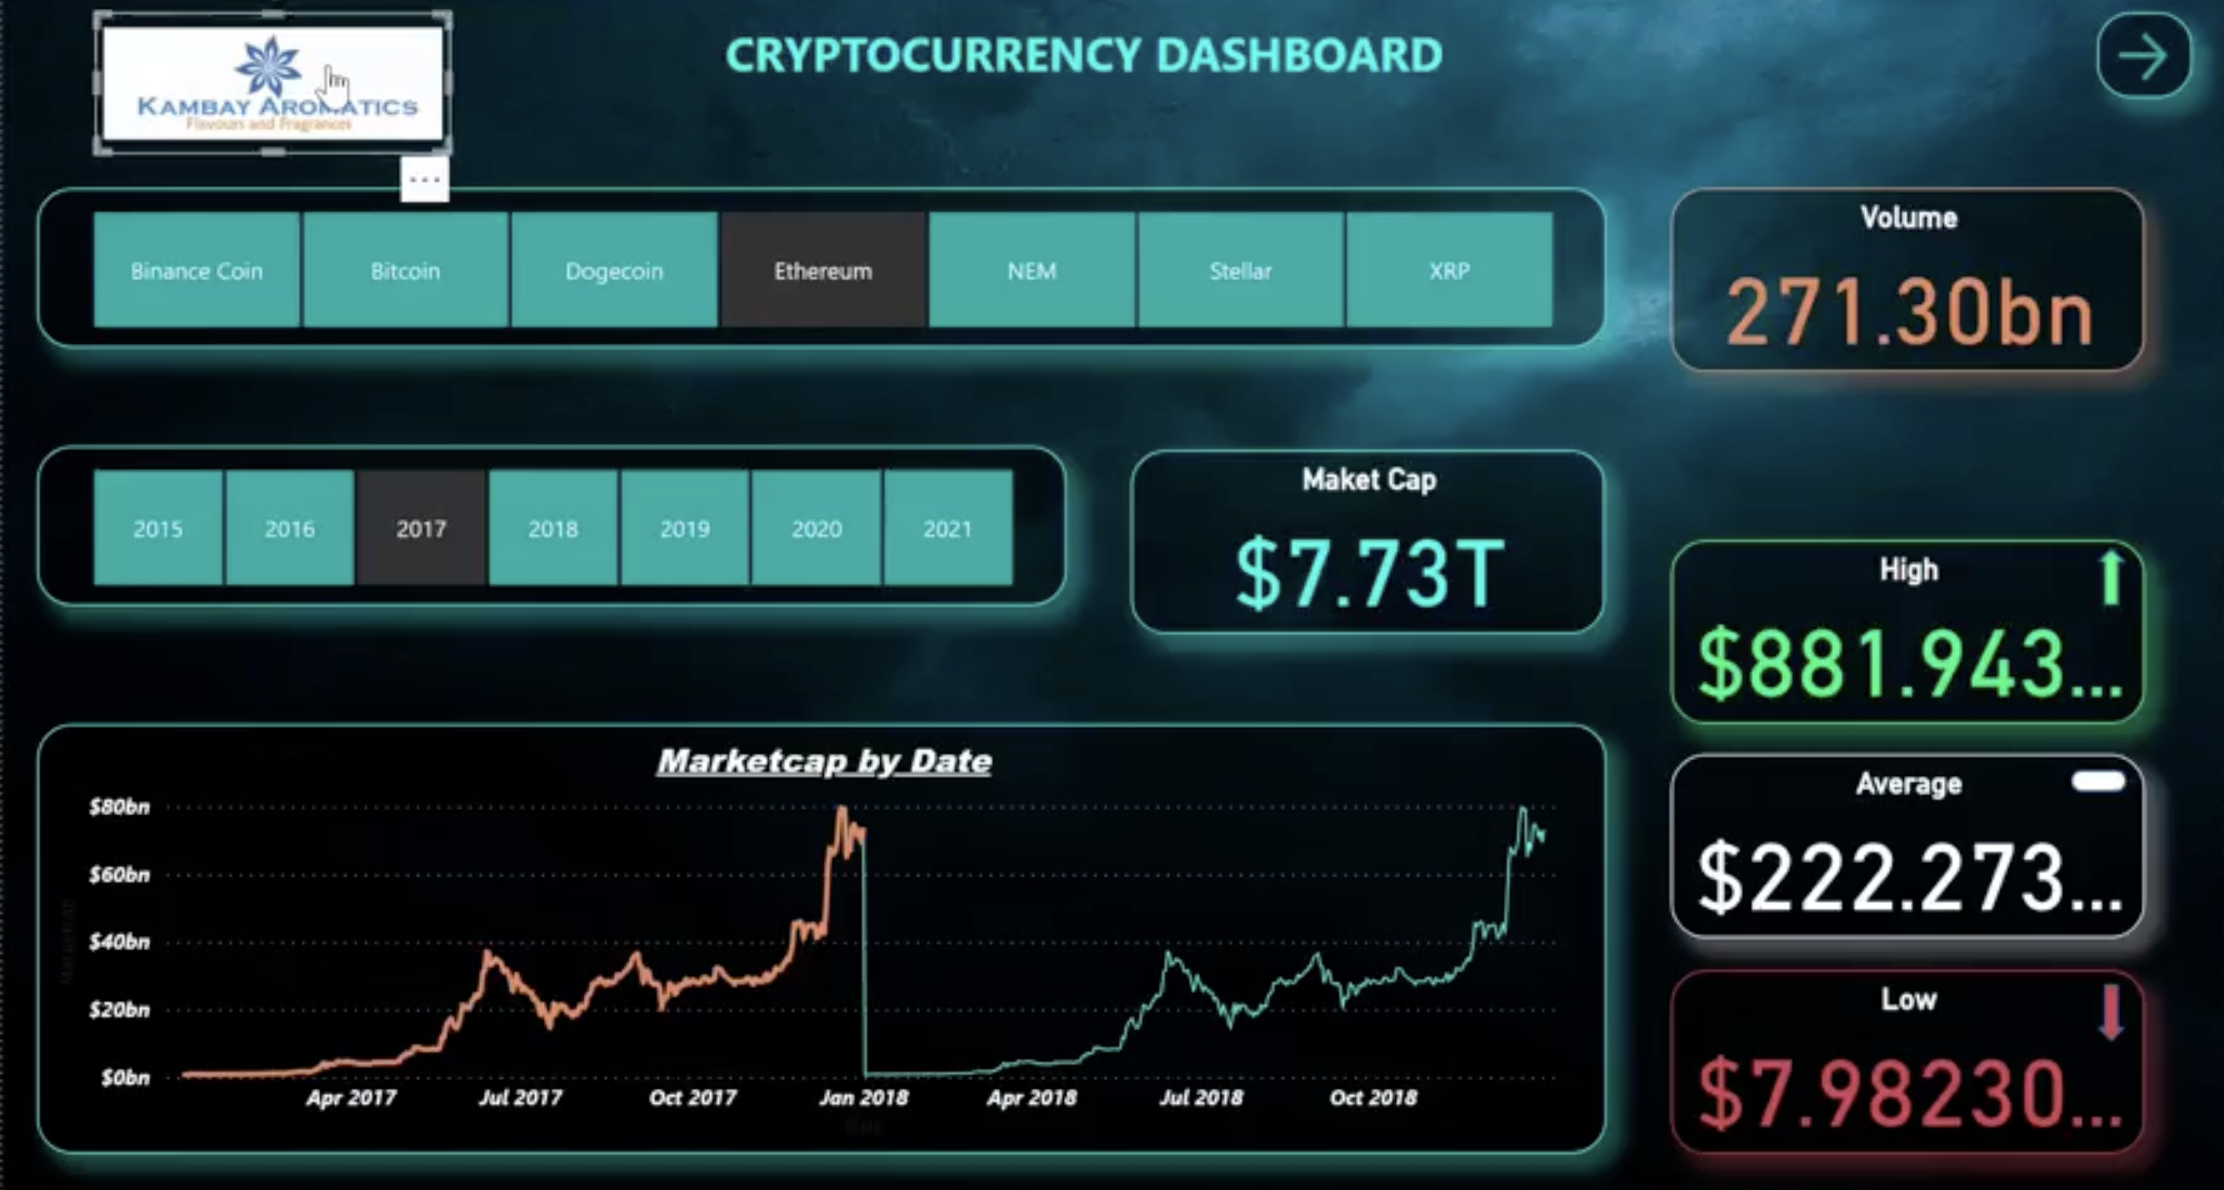

The dashboard page shown, as its layout file describes it:
{"tool":"powerbi","page":{"name":"Page 1","canvas":[1280,720],"ordinal":0},"visuals":[{"type":"slicer","fields":{"Values":["CryptoData CSV.Name"]},"box":[19.1,118.6,903.9,91.8],"z":0},{"type":"slicer","fields":{"Values":["CryptoData CSV.Year"]},"box":[19.1,267.7,592.8,91.8],"z":1000},{"type":"lineChart","fields":{"Y":["Sum(CryptoData CSV.Marketcap)"],"Category":["CryptoData CSV.Date"]},"box":[19.1,427.1,903.9,247.3],"z":2000},{"type":"actionButton","box":[1206.1,17.8,54.8,49.7],"z":3000},{"type":"image","box":[53,17.3,205.1,81.8],"z":4000},{"type":"textbox","box":[411.8,17.8,455.1,48.4],"z":5000},{"type":"card","title":"Volume","fields":{"Values":["Sum(CryptoData CSV.Volume)"]},"box":[961.3,118.6,272.8,105.8],"z":6000},{"type":"card","title":"Maket Cap","fields":{"Values":["Sum(CryptoData CSV.Marketcap)"]},"box":[650,270.1,272.8,105.8],"z":6001},{"type":"card","title":"High","fields":{"Values":["Max(CryptoData CSV.High)"]},"box":[961.3,321.3,272.8,105.8],"z":6002},{"type":"card","title":"Average","fields":{"Values":["Avg(CryptoData CSV.Average)"]},"box":[961.3,444.9,272.8,105.8],"z":6003},{"type":"card","title":"Low","fields":{"Values":["Min(CryptoData CSV.Low)"]},"box":[961.3,568.6,272.8,105.8],"z":6004},{"type":"shape","box":[1206.1,326.4,16.6,33.1],"z":6005},{"type":"shape","box":[1206.1,577.5,16.6,33.1],"z":6006},{"type":"shape","box":[1190.8,453.9,31.9,12.7],"z":6007}]}

Visuals, with their boxes on the page's 1280x720 design canvas (x1, y1, x2, y2). These are canvas units, not pixel positions in the 2224x1190 screenshot, which may show the page scaled, cropped or inside an application window:
slicer - CryptoData CSV.Name: 19, 119, 923, 210
slicer - CryptoData CSV.Year: 19, 268, 612, 360
lineChart - Sum(CryptoData CSV.Marketcap) x CryptoData CSV.Date: 19, 427, 923, 674
actionButton: 1206, 18, 1261, 68
image: 53, 17, 258, 99
textbox: 412, 18, 867, 66
"Volume" card: 961, 119, 1234, 224
"Maket Cap" card: 650, 270, 923, 376
"High" card: 961, 321, 1234, 427
"Average" card: 961, 445, 1234, 551
"Low" card: 961, 569, 1234, 674
shape: 1206, 326, 1223, 360
shape: 1206, 578, 1223, 611
shape: 1191, 454, 1223, 467
